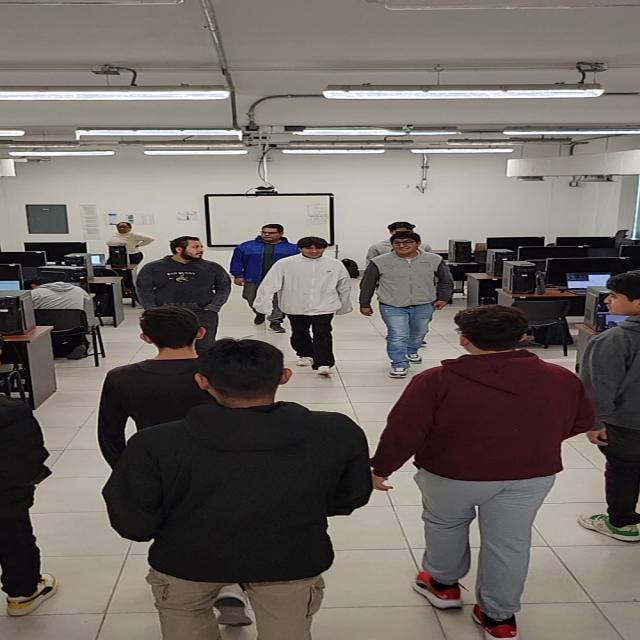Persona: (121, 345, 379, 640), (416, 300, 578, 637), (581, 262, 640, 560), (355, 228, 437, 372), (271, 233, 349, 381), (102, 308, 198, 420), (137, 224, 229, 317), (237, 221, 286, 301)
